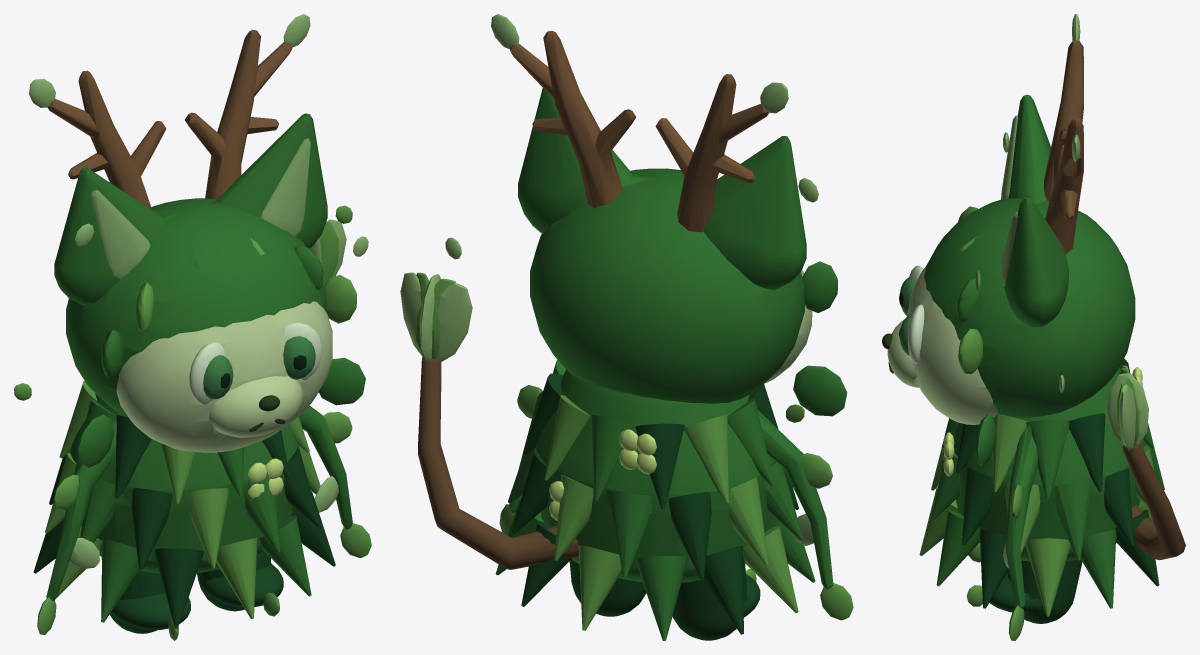
File: nettlewisp.glb
The picture shows the model from 3 angles, left to right: view 1: azimuth 30°, elevation 25°; view 2: azimuth 150°, elevation 25°; view 3: azimuth 270°, elevation 25°; orthographic projection. The views are drawn at different scales.
Parts seen in each view (by area): view 1: creature; view 2: creature; view 3: creature.
Part boxes in pixels (x1,y1,x2,y2): creature: [14, 14, 371, 640]; creature: [400, 14, 853, 640]; creature: [882, 14, 1185, 640].
Bounding box in the file's own units: 0.6903 × 1 × 0.5258.
